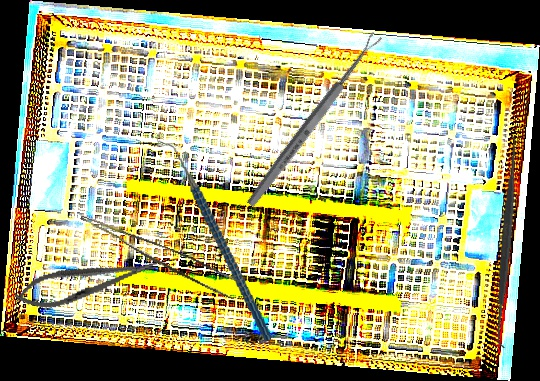Chopper: (156, 127, 272, 352)
Needle Holder: (11, 248, 162, 317)
Spatula Surgical: (485, 135, 529, 349)
Surgical Spoon: (244, 31, 384, 209)
Tissue Forceps: (72, 214, 243, 300)
